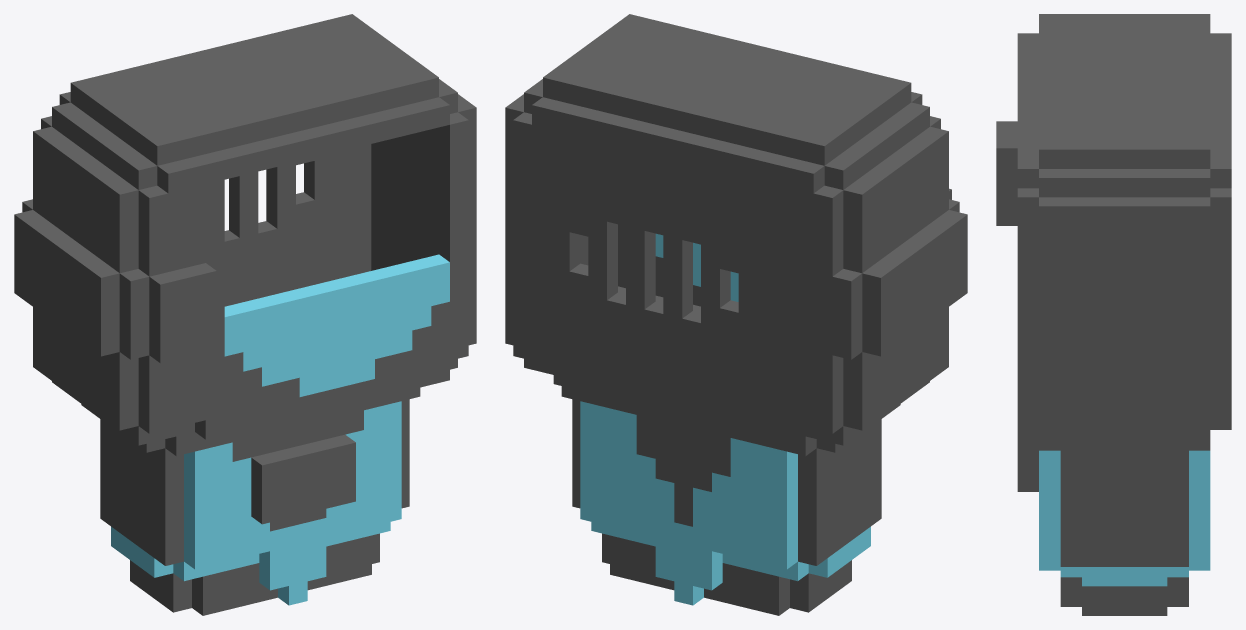
The model's file is accessories_clothes_subzero.glb.
3 renders of one model, left to right at view 1: azimuth 30°, elevation 25°; view 2: azimuth 150°, elevation 25°; view 3: azimuth 270°, elevation 25°, orthographic.
Parts seen in each view (by area): view 1: model_0; view 2: model_0; view 3: model_0.
Part boxes in pixels (x1,y1,x2,y2): model_0: (14, 14, 476, 615); model_0: (505, 14, 967, 615); model_0: (996, 14, 1231, 615).
Bounding box in the file's own units: 20 × 25 × 11.
